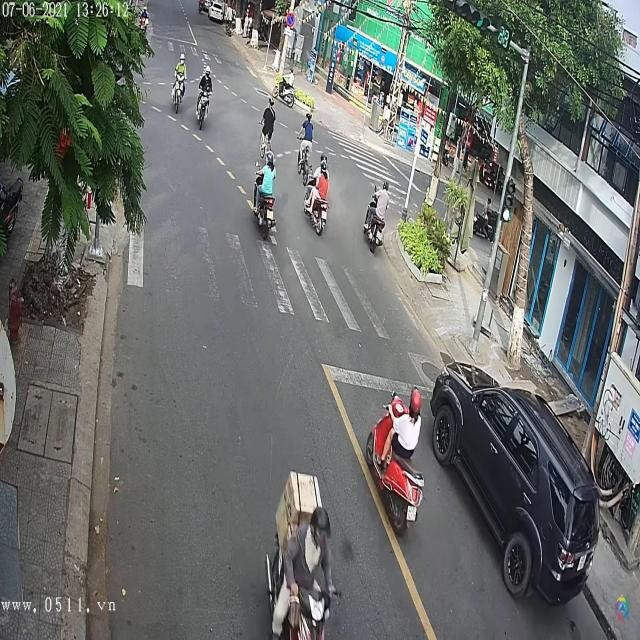car: (431, 362, 602, 611)
motorcycle: (364, 387, 424, 542), (250, 168, 275, 238), (305, 186, 329, 236), (270, 66, 297, 108), (363, 205, 386, 251), (195, 95, 210, 130)
